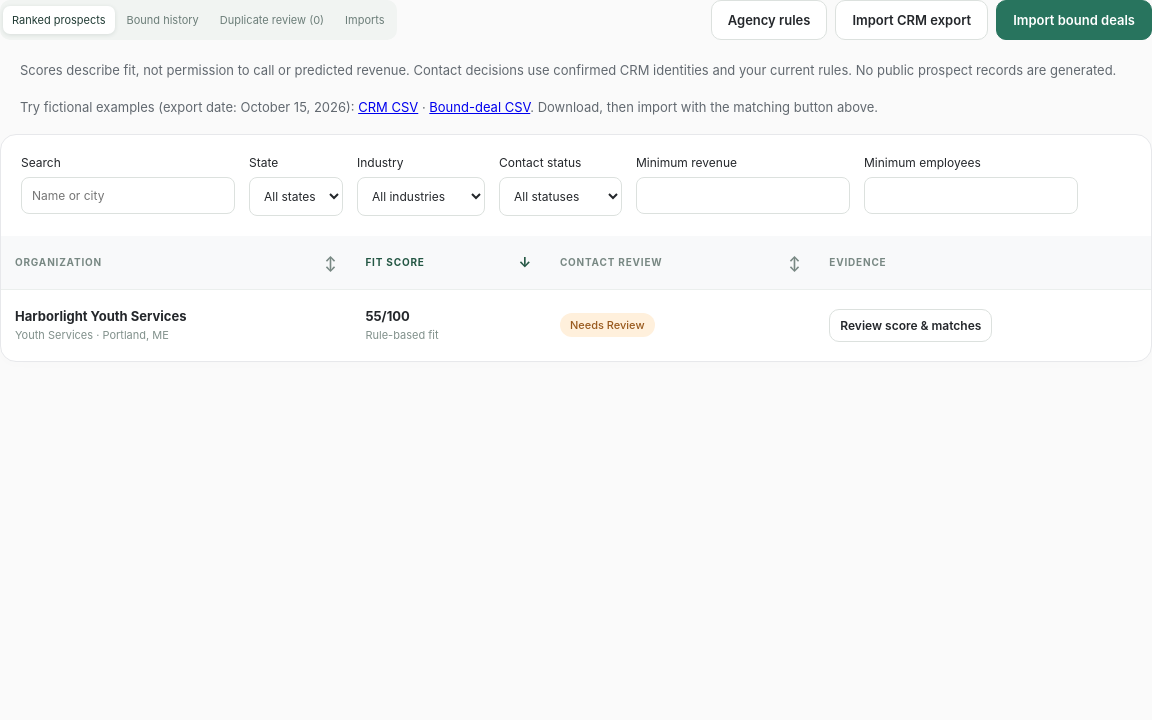
it: saves agency rules and immediately recalculates scores
The width and height of the screenshot is (1152, 720).
Expected: the text "55/100" is shown, [365, 308, 410, 324]
Click the button "Agency rules" at coordinates (769, 20), box [711, 0, 827, 40]
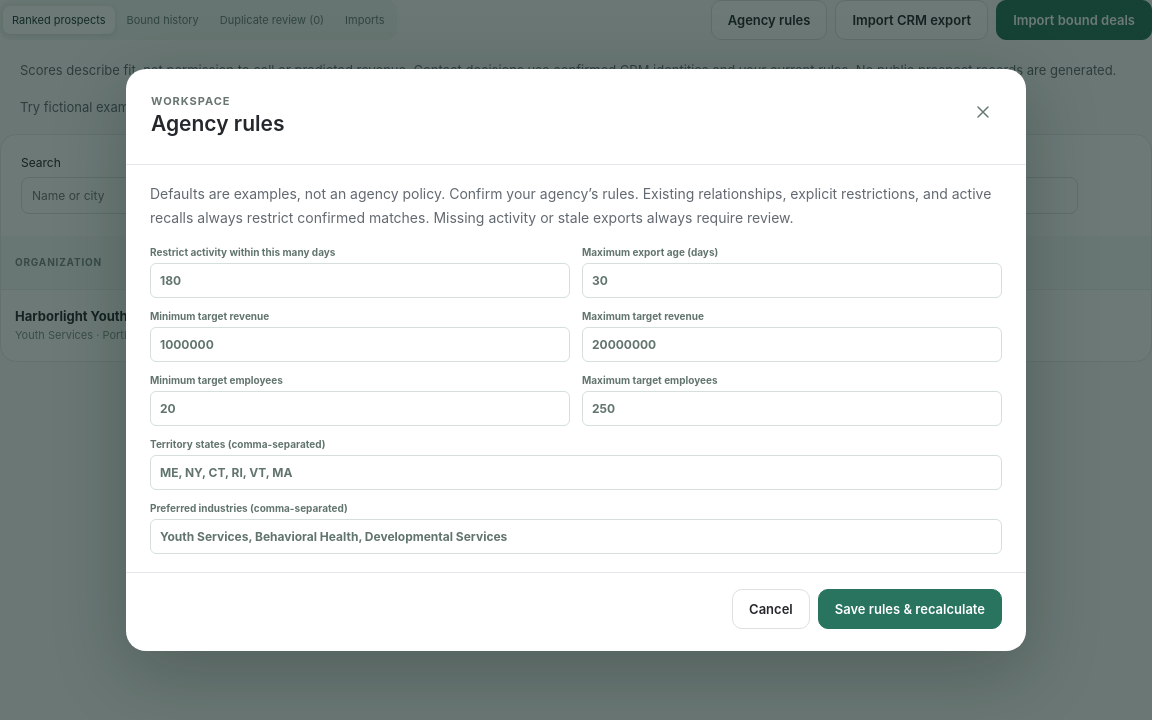
Replace the text in the field labelled "Territory states (comma-separated)" with "CA" at coordinates (576, 473), box [150, 455, 1002, 490]
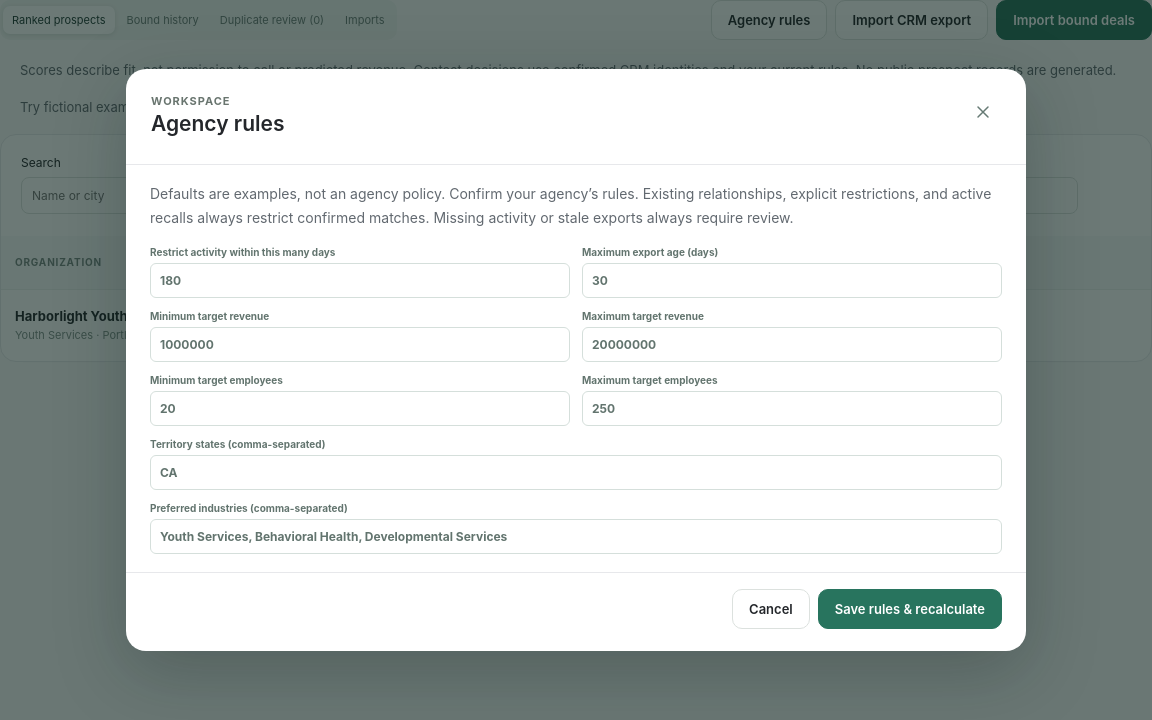
Click the button "Save rules & recalculate" at coordinates (910, 609), box [818, 589, 1002, 629]
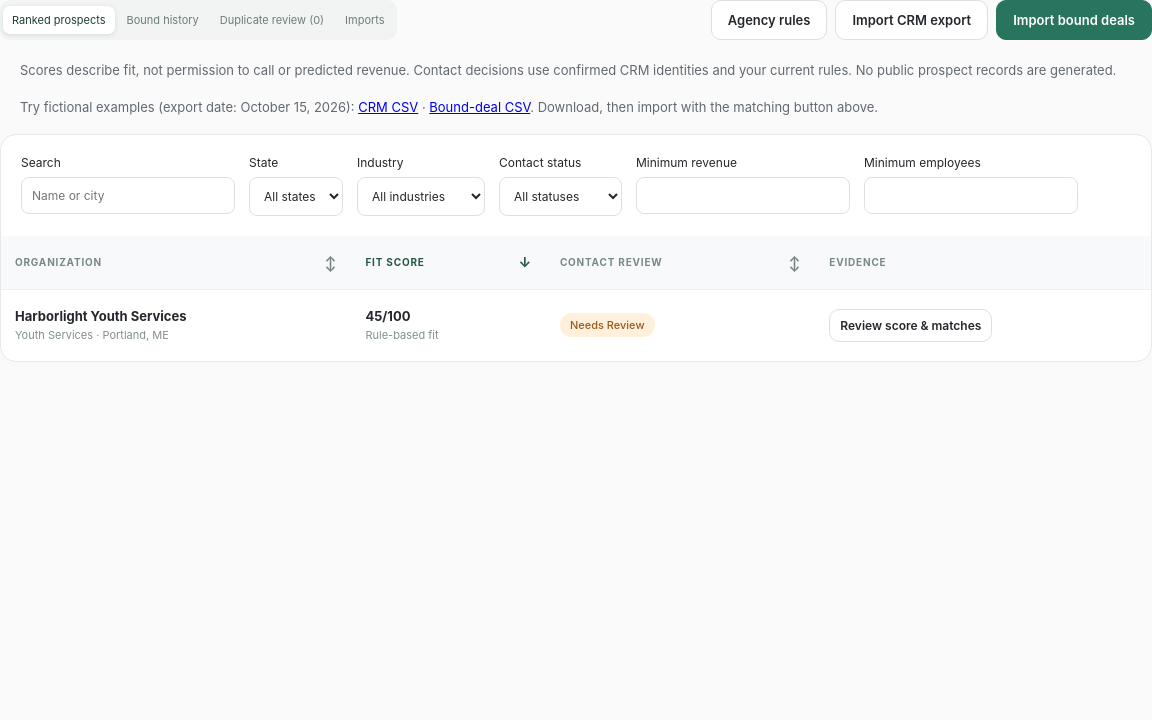
Result: the text "45/100" is shown at [365, 308, 410, 324]
